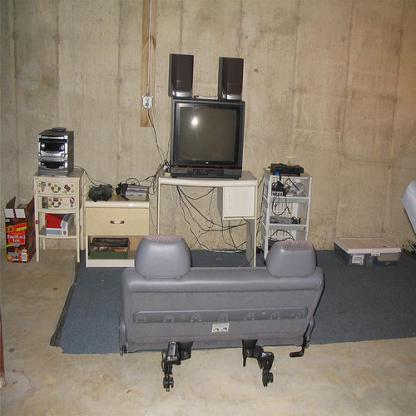tvmonitor: (166, 97, 243, 178)
